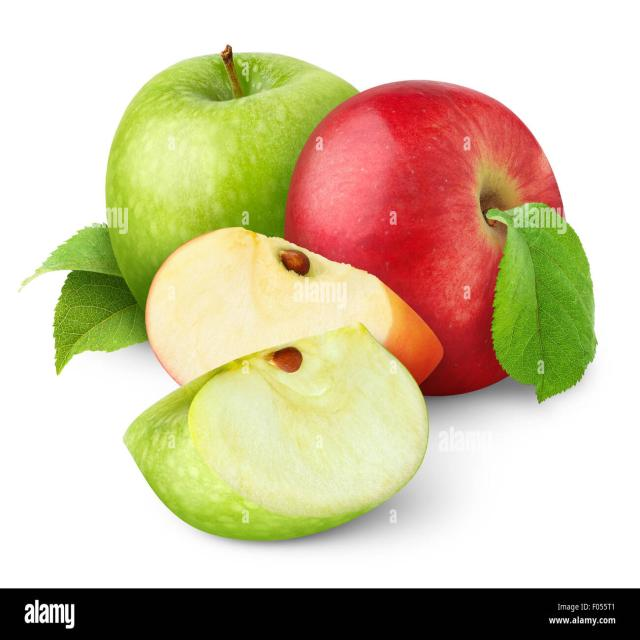Green Apple: (96, 63, 266, 338)
Red Apple: (274, 77, 598, 400)
